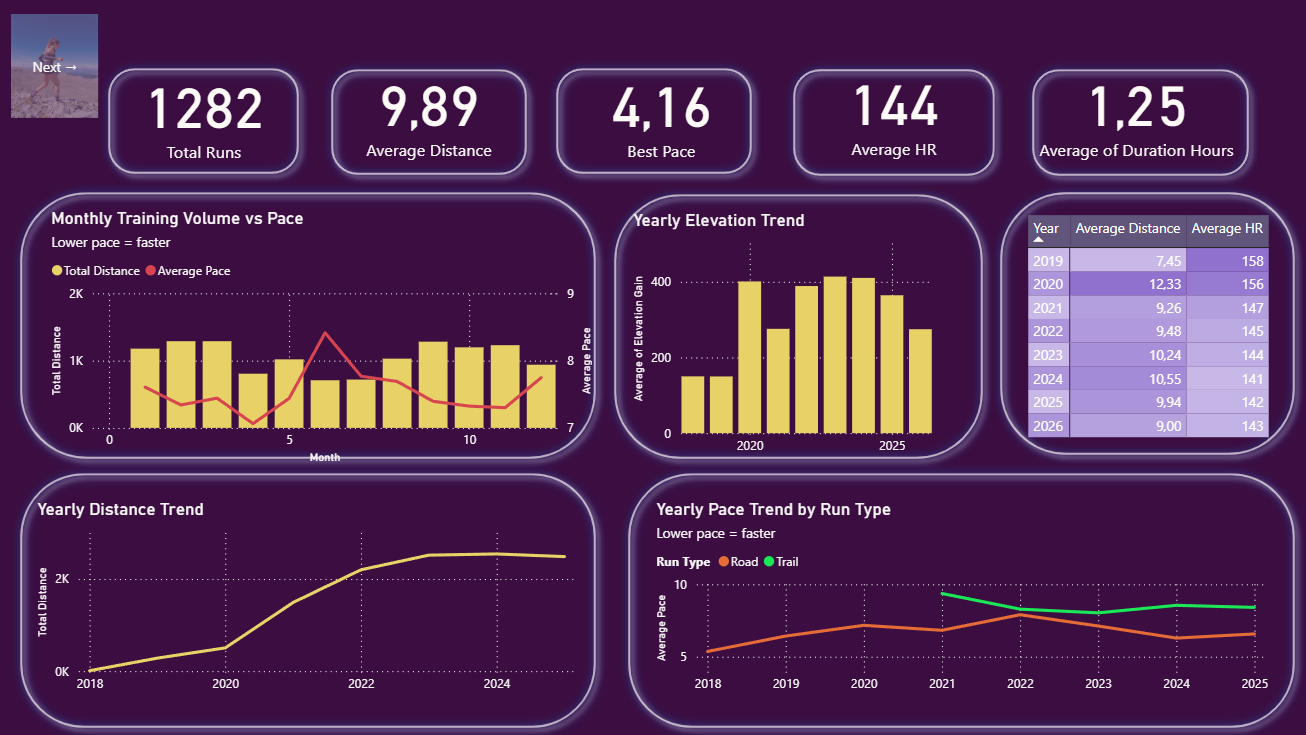

This screenshot's page, from the dashboard's own definition file:
{"tool":"powerbi","page":{"name":"Running Performance Overview","canvas":[1280,720],"ordinal":0},"visuals":[{"type":"shape","box":[14.6,454.2,577.8,265.5],"z":0},{"type":"shape","box":[606,454.2,666.3,265.5],"z":1000},{"type":"shape","box":[967.8,180.9,304.4,273.3],"z":2000},{"type":"shape","box":[592.3,182.9,376.4,275.3],"z":3000},{"type":"shape","box":[14.6,180.9,577.8,277.2],"z":4000},{"type":"shape","box":[998.9,61.3,228.6,121.6],"z":5000},{"type":"shape","box":[766.4,61.3,214,121.6],"z":6000},{"type":"shape","box":[535.9,60.3,208.1,120.6],"z":7000},{"type":"shape","box":[317.1,61.3,208.1,120.6],"z":8000},{"type":"shape","box":[100.2,60.3,203.3,120.6],"z":9000},{"type":"card","fields":{"Values":["runs.Total Runs"]},"box":[109.9,61.3,184.8,101.2],"z":10000},{"type":"card","fields":{"Values":["runs.Average HR"]},"box":[779.1,52.5,188.7,113.8],"z":11000},{"type":"card","fields":{"Values":["runs.Average Distance"]},"box":[338.5,49.6,165.3,120.6],"z":12000},{"type":"card","fields":{"Values":["Avg(runs.Duration Hours)"]},"box":[1007.7,38.9,203.3,142],"z":13000},{"type":"lineChart","title":"Yearly Distance Trend","fields":{"Category":["runs.Year"],"Y":["runs.Total Distance"]},"box":[35,488.3,535.9,197.4],"z":14000},{"type":"lineChart","title":"Yearly Pace Trend by Run Type","fields":{"Category":["runs.Year"],"Y":["runs.Average Pace"],"Series":["runs.Run Type"]},"box":[637.1,488.3,605,197.4],"z":15000},{"type":"pivotTable","title":"Yearly HR & Distance","fields":{"Rows":["runs.Year"],"Values":["runs.Average Distance","runs.Average HR"]},"box":[998.9,207.2,250,242.2],"z":16000},{"type":"lineStackedColumnComboChart","title":"Monthly Training Volume vs Pace","fields":{"Y":["runs.Total Distance"],"Y2":["runs.Average Pace"],"Category":["runs.Month"]},"box":[48.6,205.2,535.9,252.9],"z":17000},{"type":"card","title":"Best Pace","fields":{"Values":["Min(runs.Pace Min Per KM)"]},"box":[550.5,56.4,193.6,109.9],"z":18000},{"type":"clusteredColumnChart","title":"Yearly Elevation Trend","fields":{"Category":["runs.Year"],"Y":["Avg(runs.Elevation Gain)"]},"box":[614.7,207.2,303.5,247.1],"z":19000},{"type":"actionButton","title":"Next →","box":[14.6,16.5,84.6,101.2],"z":20000}]}

Visuals, with their boxes in screenshot pixels (x1, y1, x2, y2), scaled from the page's 1280x720 canvas onto the 1306x735 screenshot:
shape: (15,464,604,734)
shape: (618,464,1298,734)
shape: (987,185,1298,464)
shape: (604,187,988,468)
shape: (15,185,604,468)
shape: (1019,63,1252,187)
shape: (782,63,1000,187)
shape: (547,62,759,185)
shape: (324,63,536,186)
shape: (102,62,310,185)
card - runs.Total Runs: (112,63,301,166)
card - runs.Average HR: (795,54,987,170)
card - runs.Average Distance: (345,51,514,174)
card - Avg(runs.Duration Hours): (1028,40,1236,185)
"Yearly Distance Trend" lineChart: (36,498,582,700)
"Yearly Pace Trend by Run Type" lineChart: (650,498,1267,700)
"Yearly HR & Distance" pivotTable: (1019,212,1274,459)
"Monthly Training Volume vs Pace" lineStackedColumnComboChart: (50,209,596,468)
"Best Pace" card: (562,58,759,170)
"Yearly Elevation Trend" clusteredColumnChart: (627,212,937,464)
"Next →" actionButton: (15,17,101,120)
